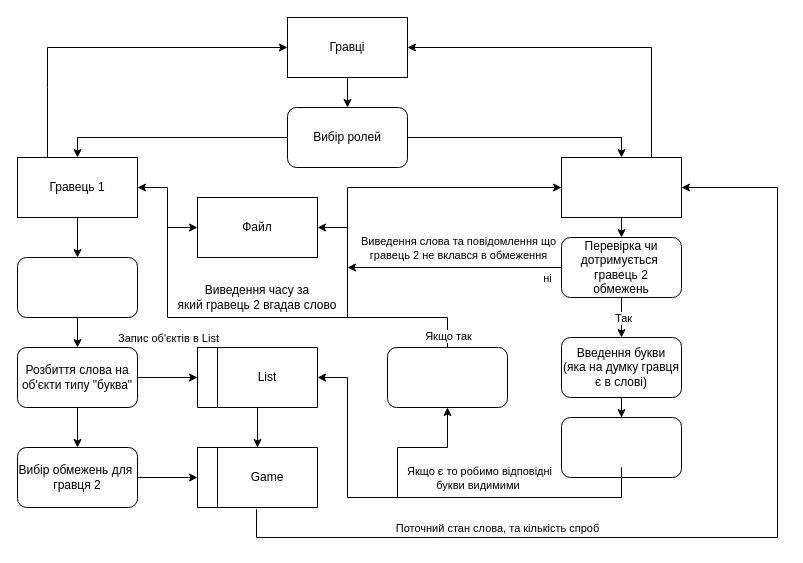
Some shapes in this 803 by 563 pixel diagram are drawn without their labels. The centre of each missing label's shape, as x and y in pixels:
"Введення слова" belongs at point (77, 287).
"Гравець 2" belongs at point (621, 187).
"Переврка чи буква є в слові" belongs at point (621, 447).
"Перевірка чи всі букви вже знайдені" belongs at point (447, 377).
